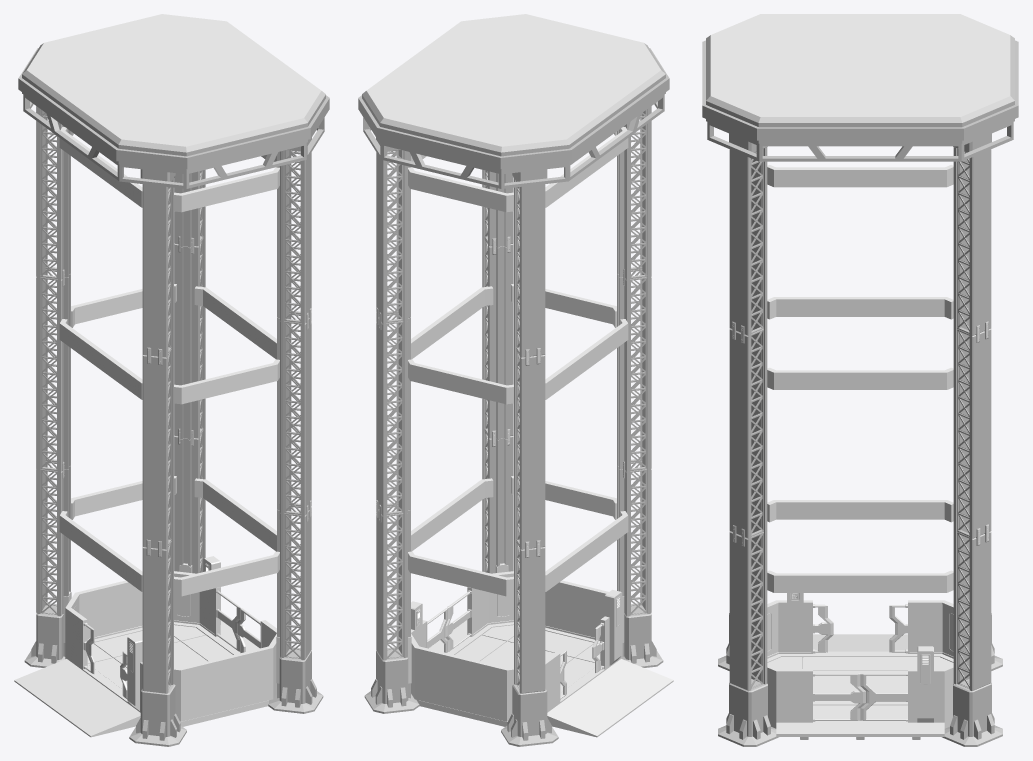
File: KB3D_FTW_PropElevator_A_grp.glb
The picture shows the model from 3 angles, left to right: view 1: azimuth 30°, elevation 25°; view 2: azimuth 150°, elevation 25°; view 3: azimuth 270°, elevation 25°; orthographic projection. The views are drawn at different scales.
Parts seen in each view (by area): view 1: KB3D_FTW_PropElevator_A_Main; view 2: KB3D_FTW_PropElevator_A_Main; view 3: KB3D_FTW_PropElevator_A_Main.
Boxes of the visible parts, x1,y1,x2,y2 form: KB3D_FTW_PropElevator_A_Main: (14,14,329,746); KB3D_FTW_PropElevator_A_Main: (358,14,673,746); KB3D_FTW_PropElevator_A_Main: (702,14,1018,746).
Bounding box in the file's own units: 4.98 × 12.48 × 5.65.
Materials: 16 (1 with a texture image).
